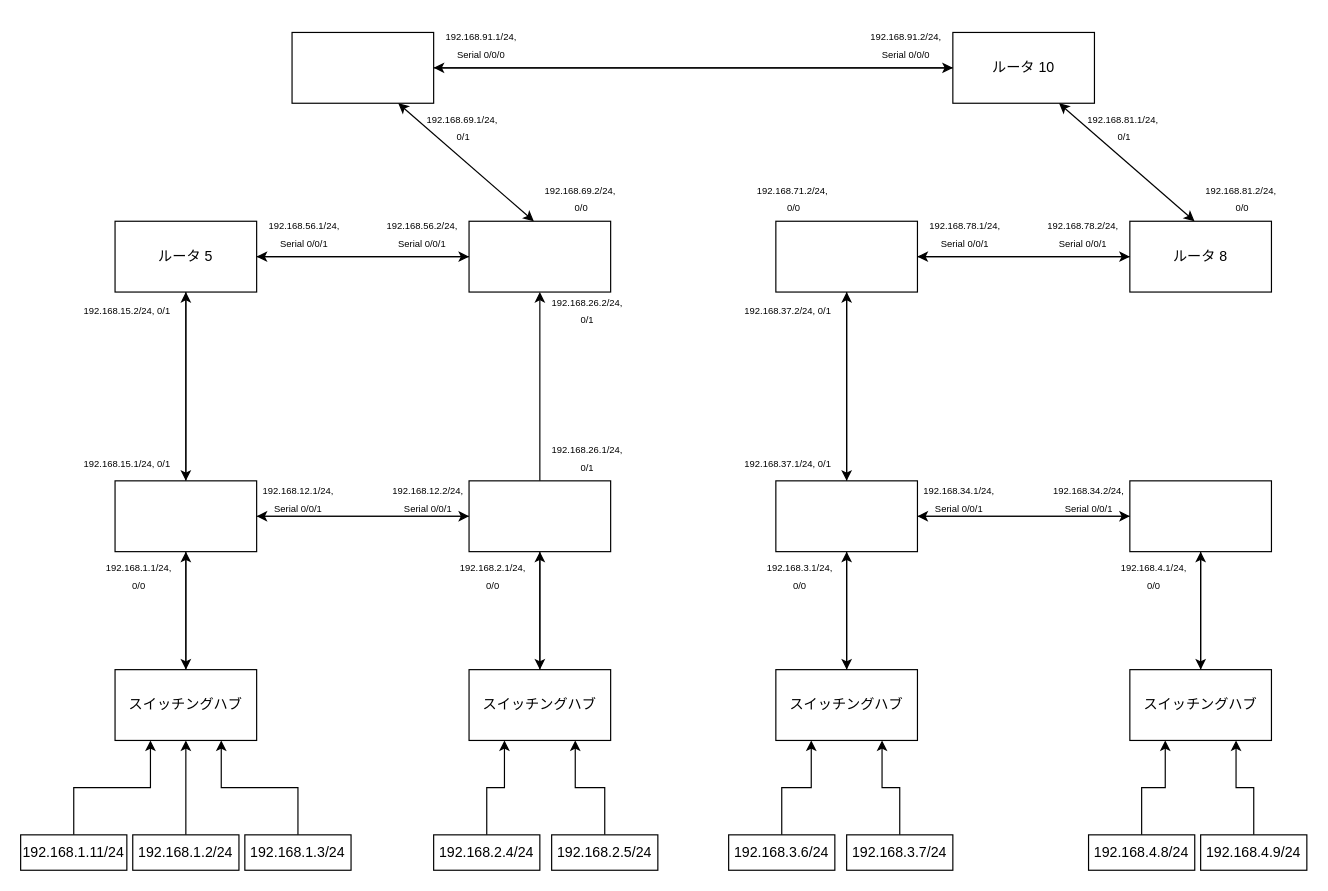
The diagram is 1328 pixels wide and 891 high, and some of its shapes have lost their labels. Each missing label, with the box of its shape:
ルータ 1: (114, 480, 257, 552)
ルータ 2: (468, 480, 611, 552)
ルータ 3: (775, 480, 917, 552)
ルータ 4: (1129, 480, 1271, 552)
ルータ 6: (468, 220, 611, 292)
ルータ 7: (775, 220, 917, 292)
ルータ 9: (291, 31, 434, 103)
